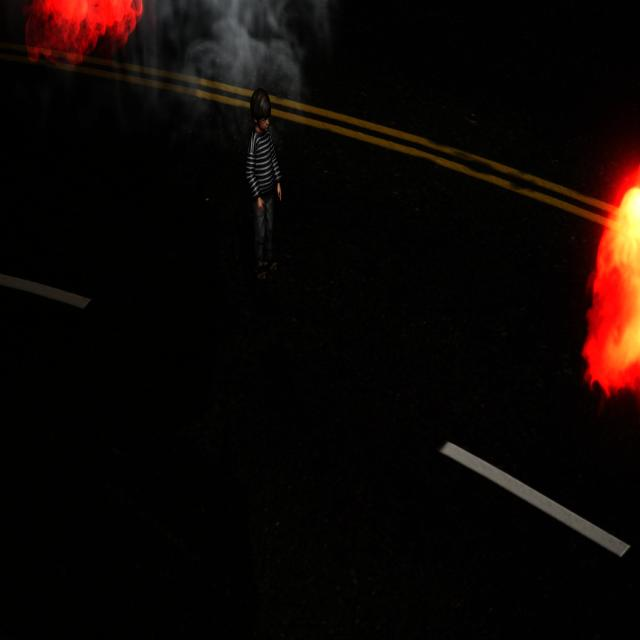Human: (239, 74, 289, 293)
